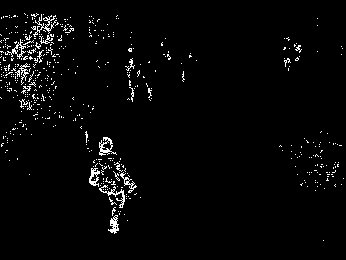person: (87, 136, 138, 236)
